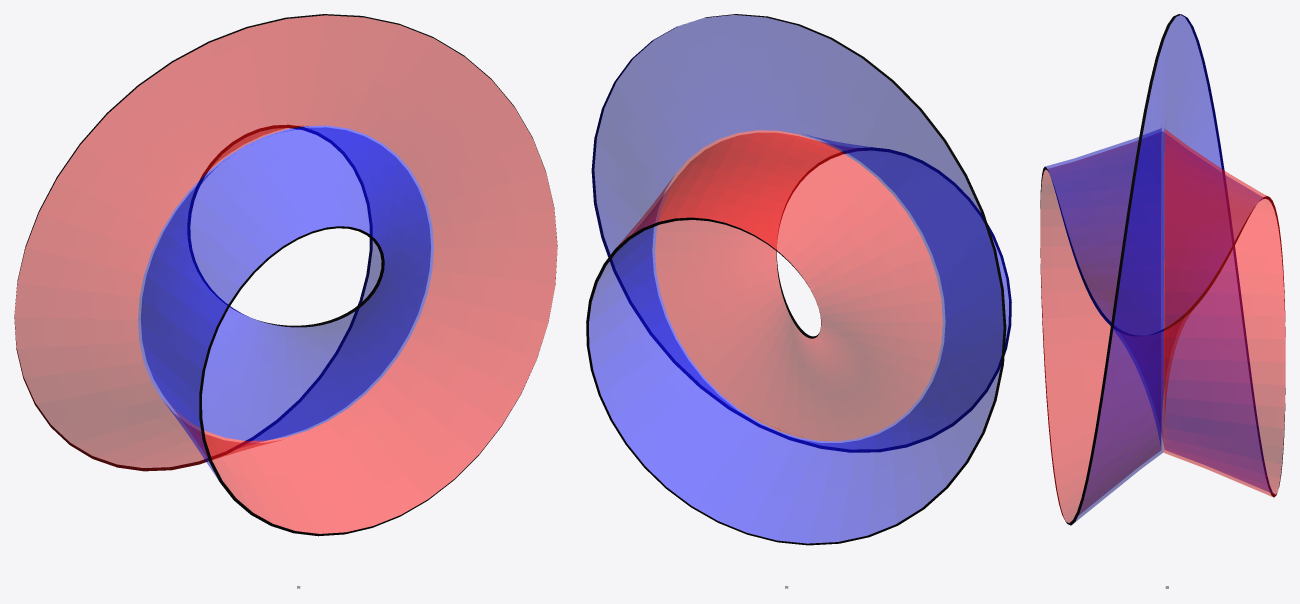
Rendered from l3_1_website.glb.
3 renders of one model, left to right at view 1: azimuth 30°, elevation 25°; view 2: azimuth 150°, elevation 25°; view 3: azimuth 270°, elevation 25°, orthographic. The views are drawn at different scales.
Visible parts, largest first — view 1: l3_1; view 2: l3_1; view 3: l3_1.
Boxes of the visible parts, x1,y1,x2,y2 form: l3_1: (14, 14, 557, 536); l3_1: (586, 14, 1011, 545); l3_1: (1040, 14, 1285, 525).
Size of the model in its own units: 170 by 194 by 79.53.
